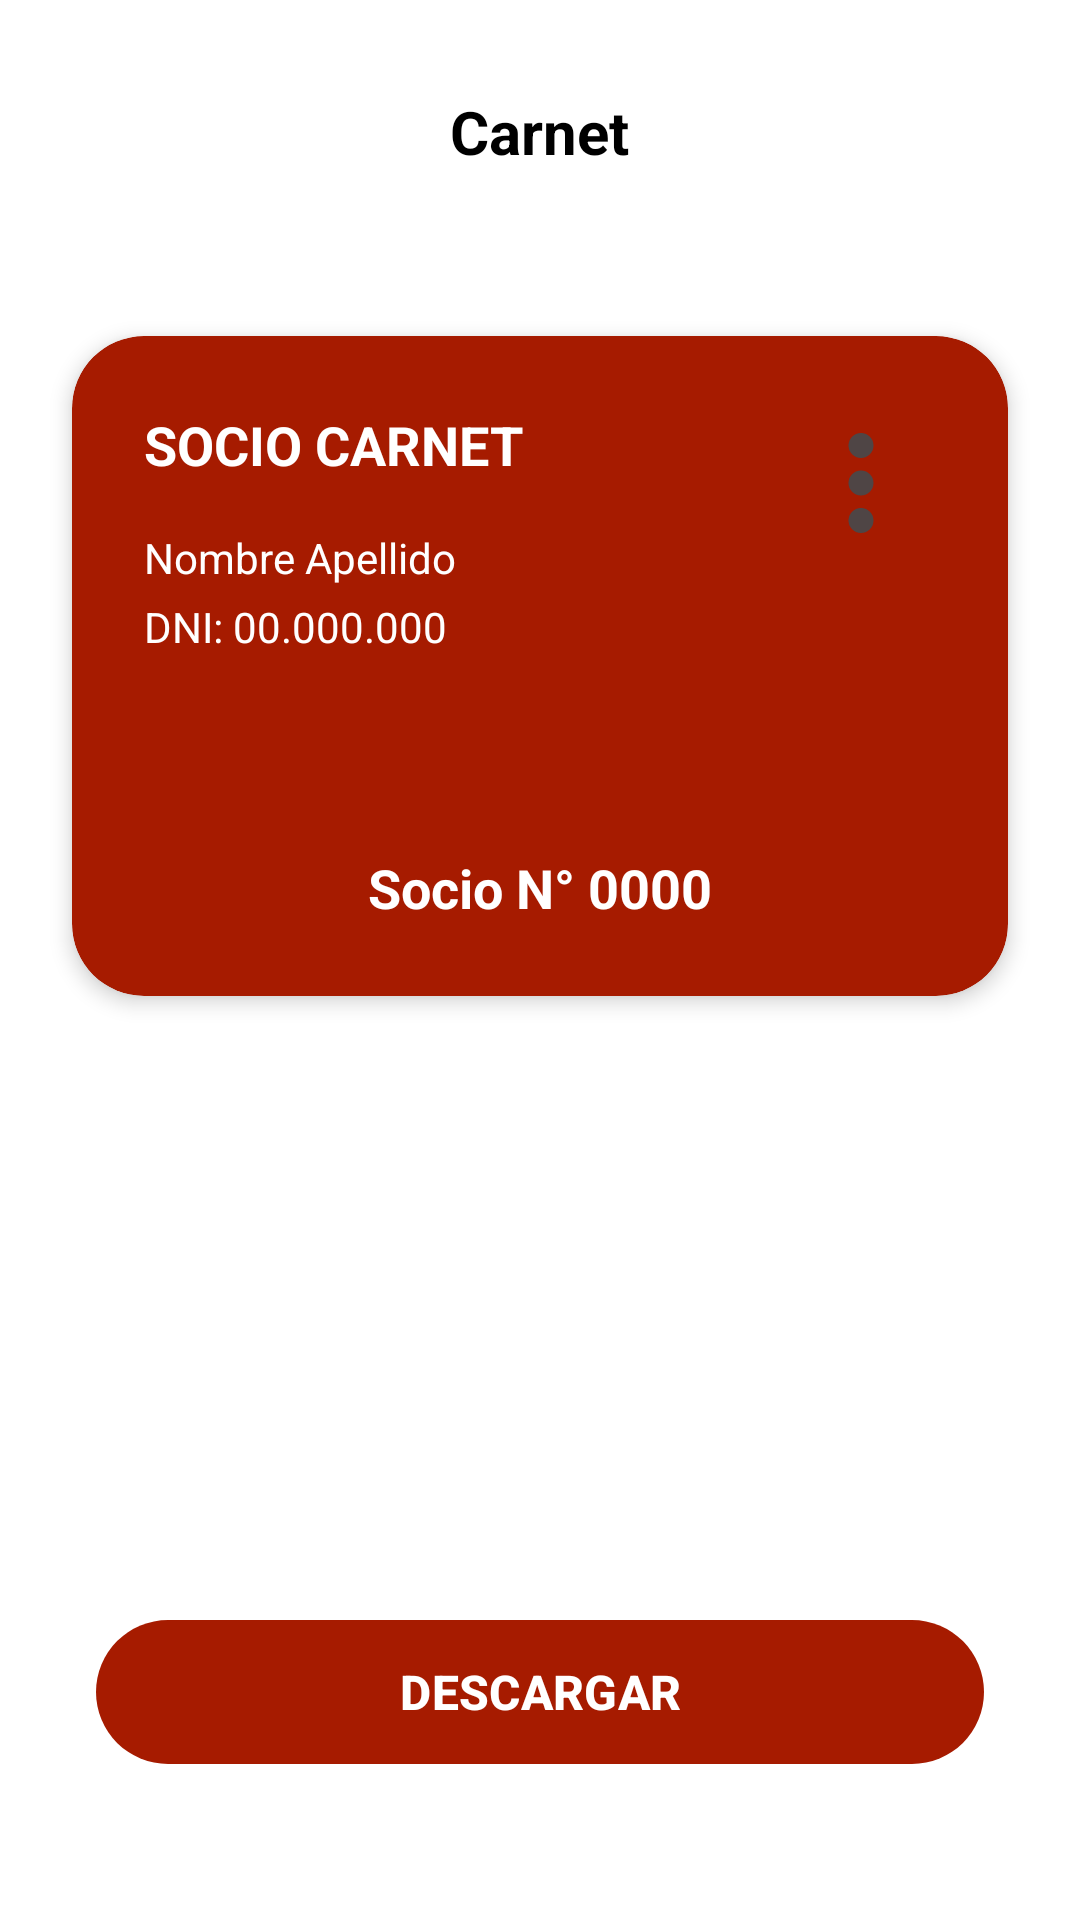

Named icons in this screenshot (1080px x 1920px) and their bounding boxes, (x1, y1, x2, y2):
option: (848, 433, 874, 533)
